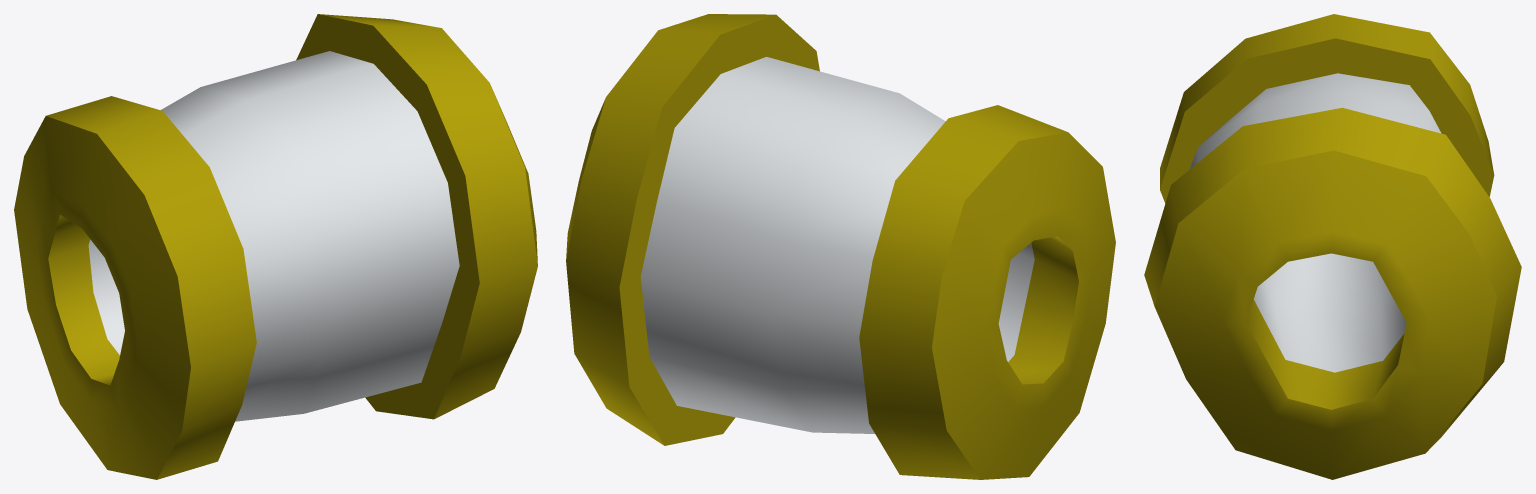
Rendered from armor_leftwrist.fbx.
3 renders of one model, left to right at view 1: azimuth 30°, elevation 25°; view 2: azimuth 150°, elevation 25°; view 3: azimuth 270°, elevation 25°, orthographic. The views are drawn at different scales.
Visible parts, largest first — view 1: L_arm1:polySurface1; view 2: L_arm1:polySurface1; view 3: L_arm1:polySurface1.
Part boxes in pixels (x1,y1,x2,y2): L_arm1:polySurface1: (14, 14, 537, 479); L_arm1:polySurface1: (566, 14, 1115, 479); L_arm1:polySurface1: (1144, 14, 1521, 479).
Size of the model in its own units: 64.04 by 59.48 by 56.99.
